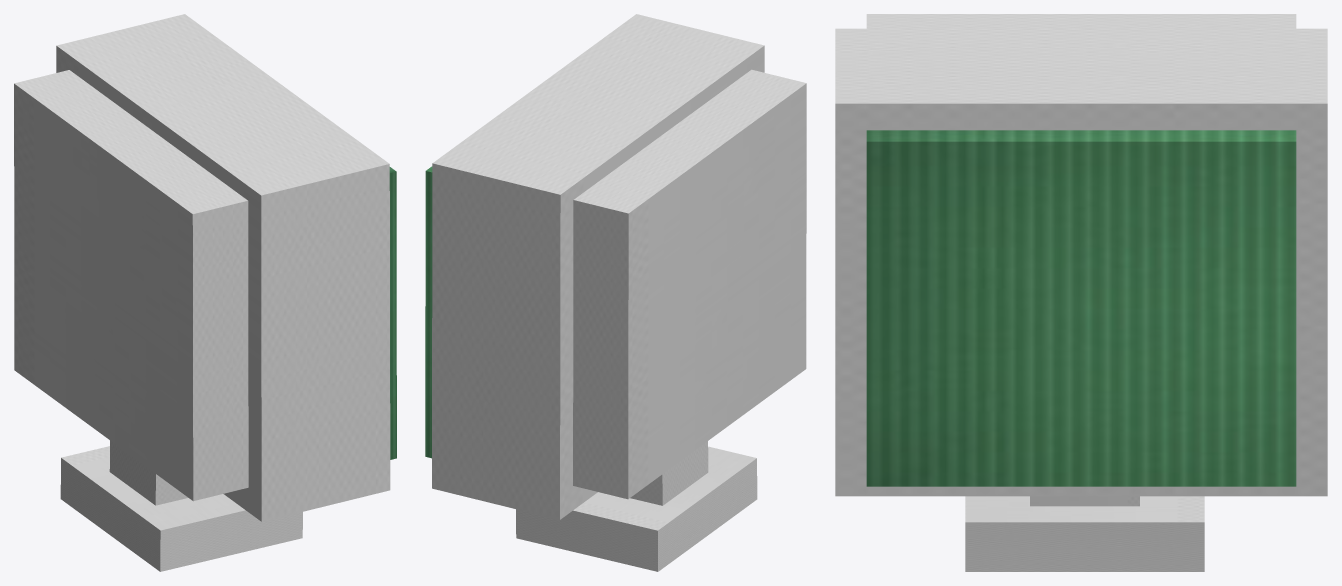
File: Monitor twofbx.fbx
3 renders of one model, left to right at view 1: azimuth 30°, elevation 25°; view 2: azimuth 150°, elevation 25°; view 3: azimuth 270°, elevation 25°, orthographic. The views are drawn at different scales.
Visible parts, largest first — view 1: Cube.005, Cube.004, Cube.007, Cube.006, Cube.008; view 2: Cube.005, Cube.004, Cube.007, Cube.006, Cube.008; view 3: Cube.006, Cube.004, Cube.007, Cube.005, Cube.008.
Boxes of the visible parts, box(x1,y1,x2,y2) form: Cube.005: box(14, 70, 248, 501); Cube.004: box(56, 14, 390, 521); Cube.007: box(60, 446, 302, 571); Cube.006: box(389, 167, 396, 459); Cube.008: box(109, 440, 188, 505); Cube.005: box(573, 69, 806, 499); Cube.004: box(432, 14, 764, 519); Cube.007: box(516, 446, 757, 571); Cube.006: box(425, 166, 432, 458); Cube.008: box(630, 441, 708, 505); Cube.006: box(866, 130, 1296, 486); Cube.004: box(835, 28, 1327, 496); Cube.007: box(965, 496, 1204, 571); Cube.005: box(866, 14, 1296, 28); Cube.008: box(1030, 496, 1139, 506).
Bounding box in the file's own units: 115 × 219 × 200.
